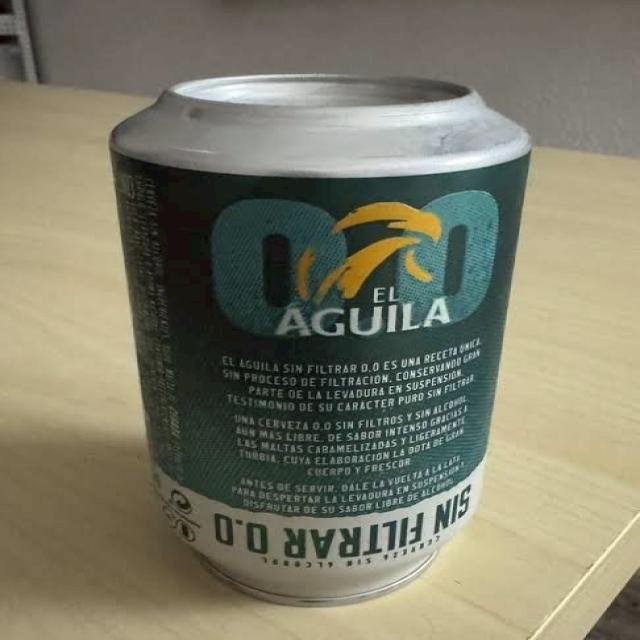can: (128, 81, 520, 607)
